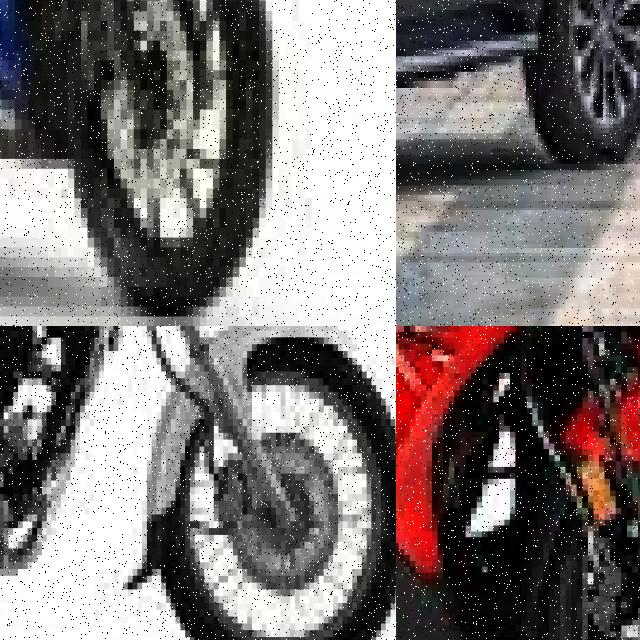bike: (0, 326, 396, 640), (0, 0, 285, 316), (396, 326, 640, 640)
car: (396, 0, 640, 225)
